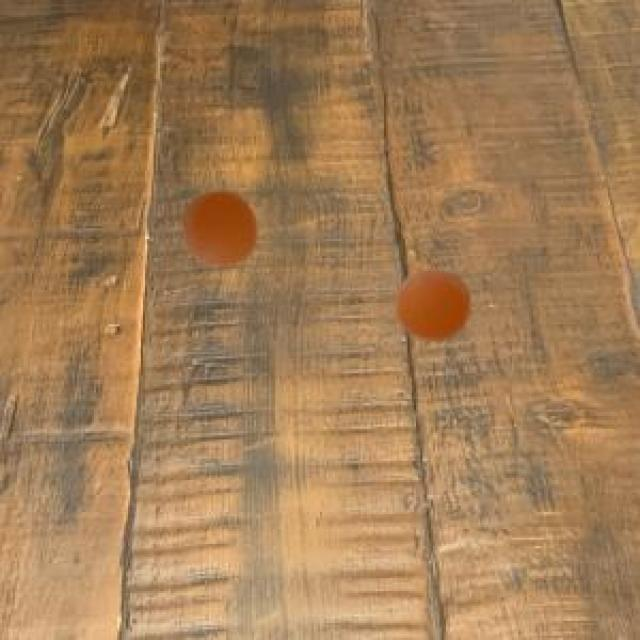Bactidol: (156, 174, 279, 282), (387, 259, 481, 347)
